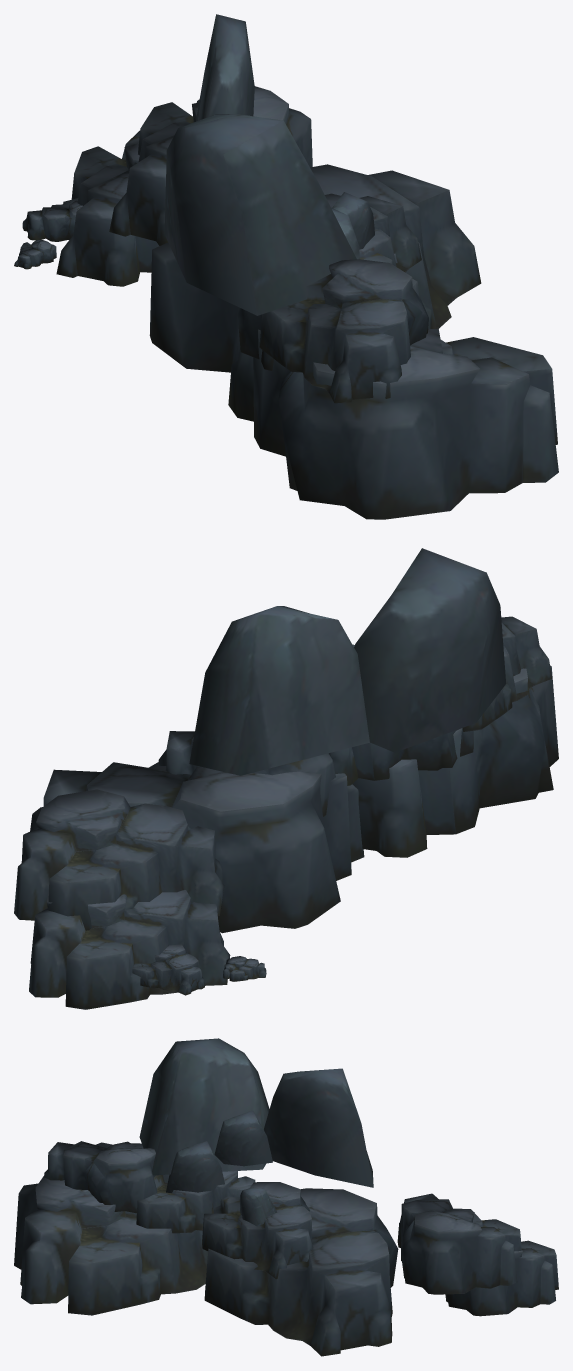
Rendered from Area_05_7.fbx.
3 renders of one model, top to bottom at view 1: azimuth 30°, elevation 25°; view 2: azimuth 150°, elevation 25°; view 3: azimuth 270°, elevation 25°, orthographic. The views are drawn at different scales.
Visible parts, largest first — view 1: Area_05_7; view 2: Area_05_7; view 3: Area_05_7.
Boxes of the visible parts, x1,y1,x2,y2 form: Area_05_7: (14, 14, 558, 519); Area_05_7: (14, 548, 558, 1009); Area_05_7: (14, 1038, 558, 1356).
Size of the model in its own units: 3582 by 2776 by 6577.
